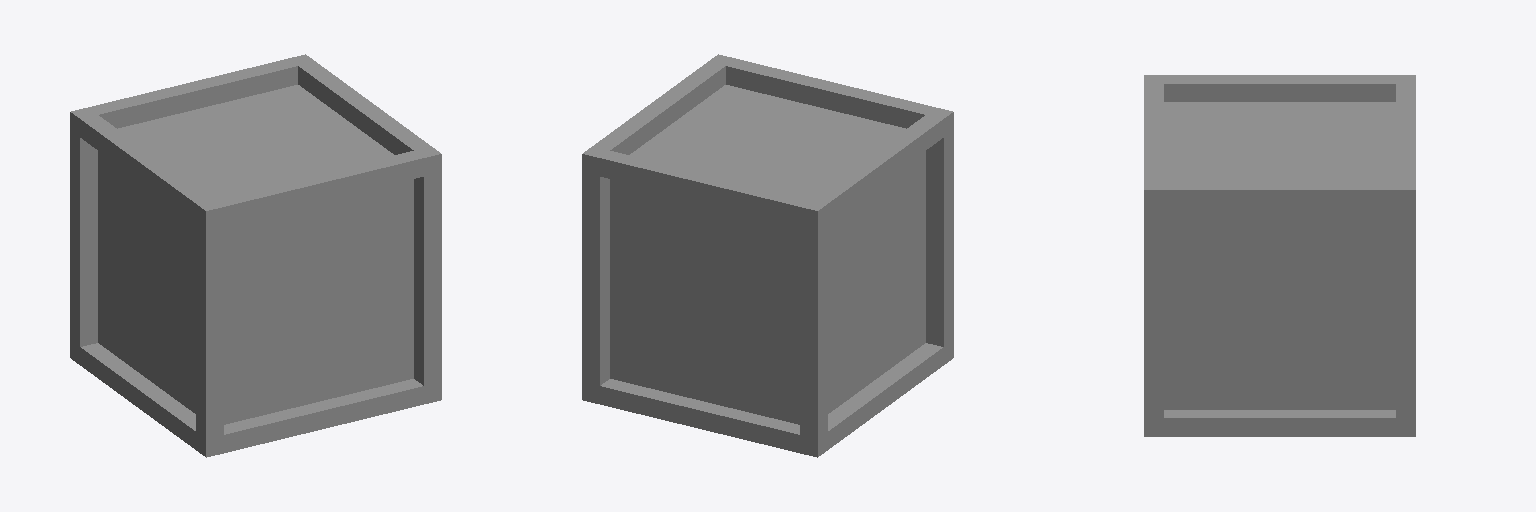
Rendered from Tank.obj.
The picture shows the model from 3 angles: view 1: azimuth 30°, elevation 25°; view 2: azimuth 150°, elevation 25°; view 3: azimuth 270°, elevation 25°; orthographic projection.
Parts seen in each view (by area): view 1: Glass_Cube.004, Holder_Cube.003; view 2: Glass_Cube.004, Holder_Cube.003; view 3: Glass_Cube.004, Holder_Cube.003.
Boxes of the visible parts, <box> form: Glass_Cube.004: <box>98,85,413,424</box>; Holder_Cube.003: <box>70,54,441,457</box>; Glass_Cube.004: <box>610,85,925,424</box>; Holder_Cube.003: <box>582,54,953,457</box>; Glass_Cube.004: <box>1164,102,1395,409</box>; Holder_Cube.003: <box>1144,75,1415,436</box>.
Bounding box in the file's own units: 1 × 1 × 1.